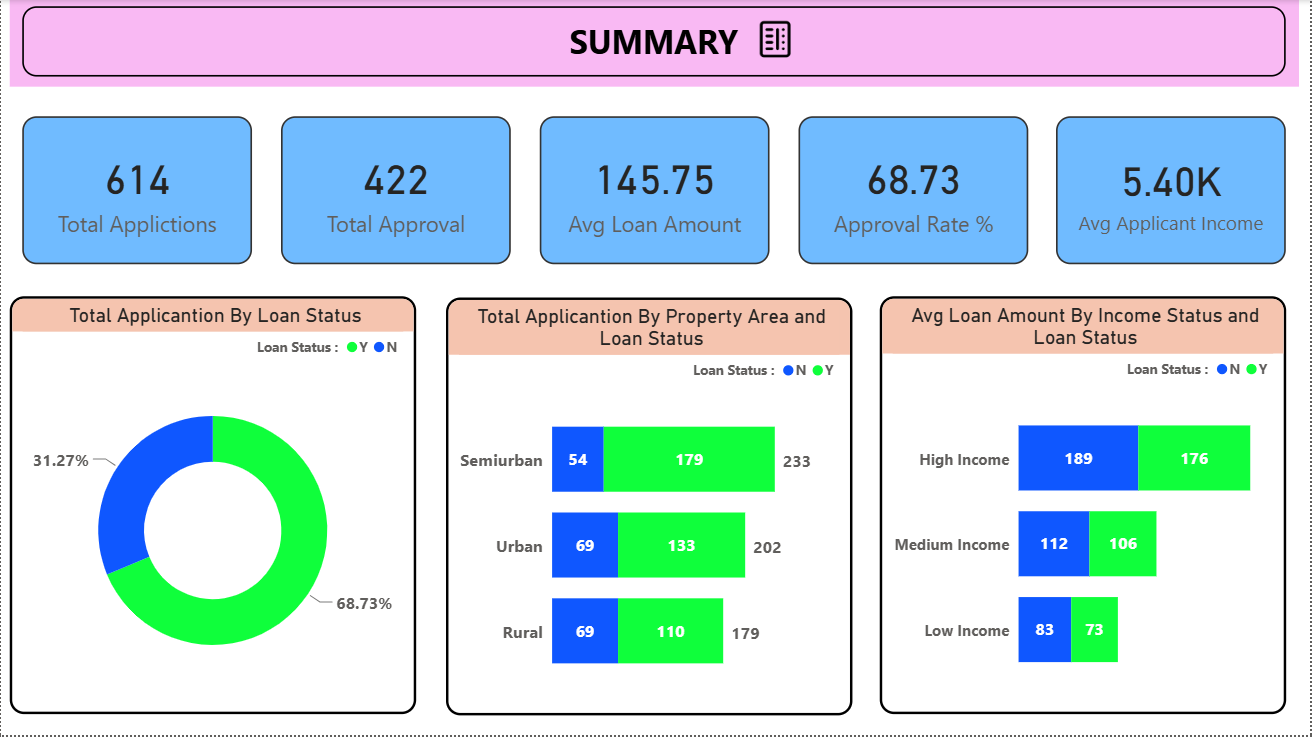

What the dashboard file says about the page in this screenshot:
{"tool":"powerbi","page":{"name":"Summary Page","canvas":[1280,720],"ordinal":0},"visuals":[{"type":"card","fields":{"Values":["bank_loan l_approved.Total_applicant"]},"box":[21.2,113.8,225,145],"z":0},{"type":"shape","box":[8.8,0,1261.2,85],"z":1000},{"type":"card","fields":{"Values":["bank_loan l_approved.Total Approval"]},"box":[274.1,113.8,225,145],"z":2000},{"type":"card","fields":{"Values":["bank_loan l_approved.Approval Rate"]},"box":[779.7,113.8,225,145],"z":3000},{"type":"card","fields":{"Values":["bank_loan l_approved.Avg Loan Amount"]},"box":[526.9,113.8,225,145],"z":4000},{"type":"card","fields":{"Values":["bank_loan l_approved.Avg Applicant Income"]},"box":[1032.5,113.8,225,145],"z":5000},{"type":"textbox","box":[21.2,6.2,1236.2,68.8],"z":6000},{"type":"donutChart","title":"Total Applicantion  By Loan Status","fields":{"Category":["bank_loan l_approved.Loan_Status"],"Y":["bank_loan l_approved.Total_applicant"]},"box":[8.8,290,397.5,408.8],"z":7000},{"type":"barChart","title":"Total Applicantion By Property Area and Loan Status","fields":{"Y":["bank_loan l_approved.Total_applicant"],"Category":["bank_loan l_approved.Property_Area"],"Series":["bank_loan l_approved.Loan_Status"]},"box":[435,291.2,397.5,408.8],"z":8000},{"type":"barChart","title":"Avg Loan Amount By Income Status and Loan Status","fields":{"Series":["bank_loan l_approved.Loan_Status"],"Y":["Avg(bank_loan l_approved.LoanAmount)"],"Category":["bank_loan l_approved.Income_group"]},"box":[860,290,397.5,408.8],"z":9000},{"type":"image","box":[735,17.5,45,42.5],"z":10000}]}

Visuals, with their boxes in screenshot pixels (x1, y1, x2, y2), scaled from the page's 1280x720 canvas onto the 1312x737 screenshot:
card - bank_loan l_approved.Total_applicant: 22:116:252:265
shape: 9:0:1302:87
card - bank_loan l_approved.Total Approval: 281:116:512:265
card - bank_loan l_approved.Approval Rate: 799:116:1030:265
card - bank_loan l_approved.Avg Loan Amount: 540:116:771:265
card - bank_loan l_approved.Avg Applicant Income: 1058:116:1289:265
textbox: 22:6:1289:77
"Total Applicantion  By Loan Status" donutChart: 9:297:416:715
"Total Applicantion By Property Area and Loan Status" barChart: 446:298:853:717
"Avg Loan Amount By Income Status and Loan Status" barChart: 881:297:1289:715
image: 753:18:799:61
